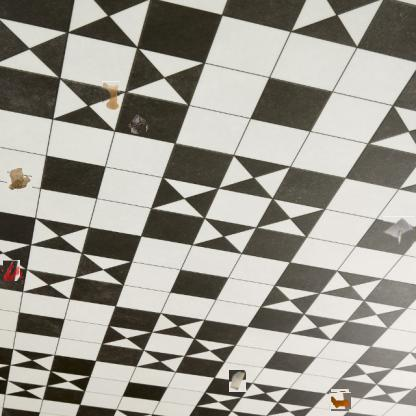dirty: (384, 216, 416, 245), (6, 167, 32, 191), (330, 390, 350, 410), (230, 370, 248, 392), (129, 116, 147, 134)
liquid: (102, 81, 120, 110), (2, 262, 21, 280)
